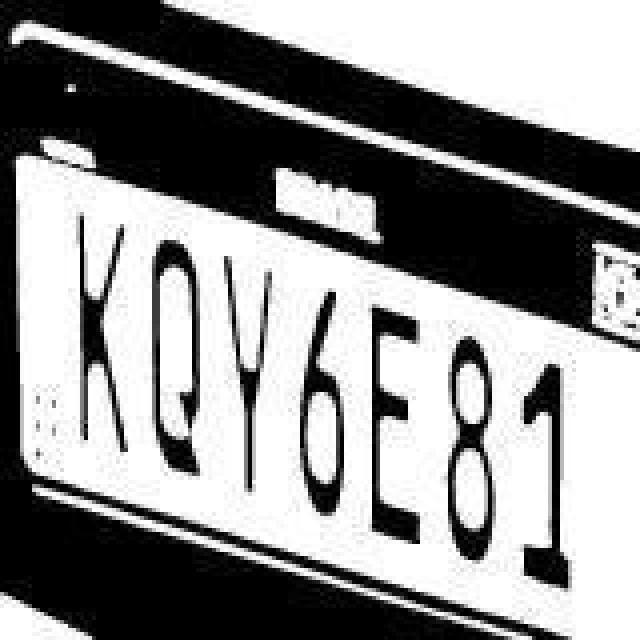1: (520, 340, 584, 604)
6: (294, 258, 362, 542)
8: (440, 308, 504, 588)
E: (352, 284, 432, 572)
K: (62, 200, 138, 488)
Q: (148, 230, 212, 498)
Y: (222, 240, 282, 528)
